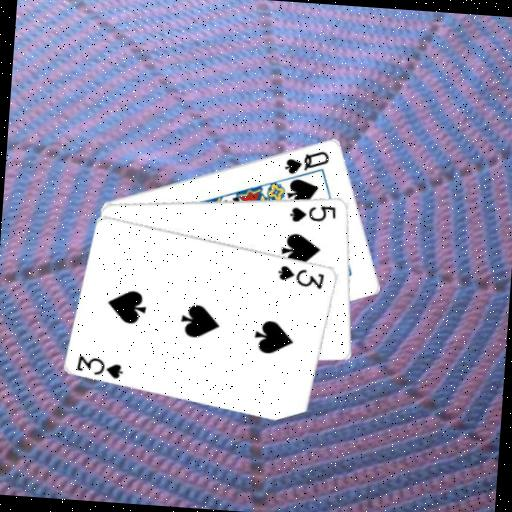3S: (274, 261, 327, 291), (73, 352, 126, 381)
5S: (287, 200, 339, 227)
QS: (281, 145, 332, 178)
